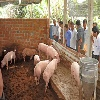heo: (42, 58, 58, 92), (1, 51, 16, 69), (70, 61, 80, 86), (32, 60, 42, 84), (46, 44, 61, 59), (21, 47, 36, 60), (38, 42, 47, 56)
